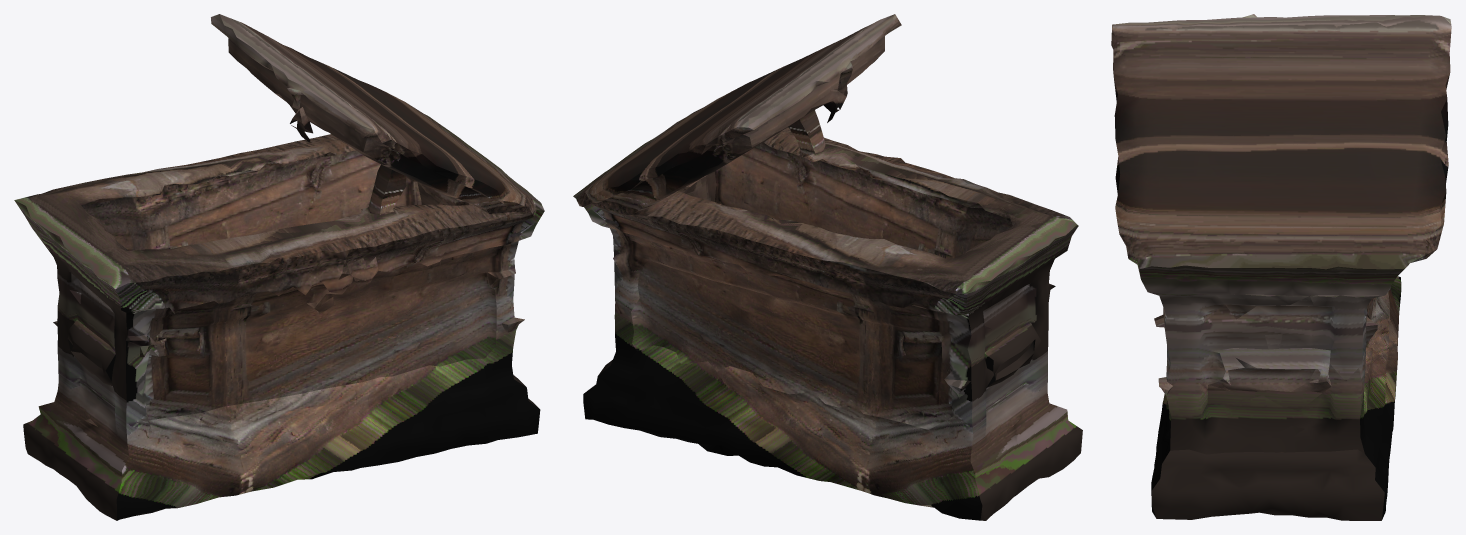
The model's file is coffin_open.glb.
The picture shows the model from 3 angles, left to right: view 1: azimuth 30°, elevation 25°; view 2: azimuth 150°, elevation 25°; view 3: azimuth 270°, elevation 25°; orthographic projection. The views are drawn at different scales.
Parts seen in each view (by area): view 1: geometry_0; view 2: geometry_0; view 3: geometry_0.
Boxes of the visible parts, x1=… form: geometry_0: x1=14, y1=14, x2=544, y2=520; geometry_0: x1=573, y1=14, x2=1082, y2=520; geometry_0: x1=1111, y1=14, x2=1451, y2=520.
Bounding box in the file's own units: 0.8177 × 0.7 × 0.5323.
1 material, 1 textured.
